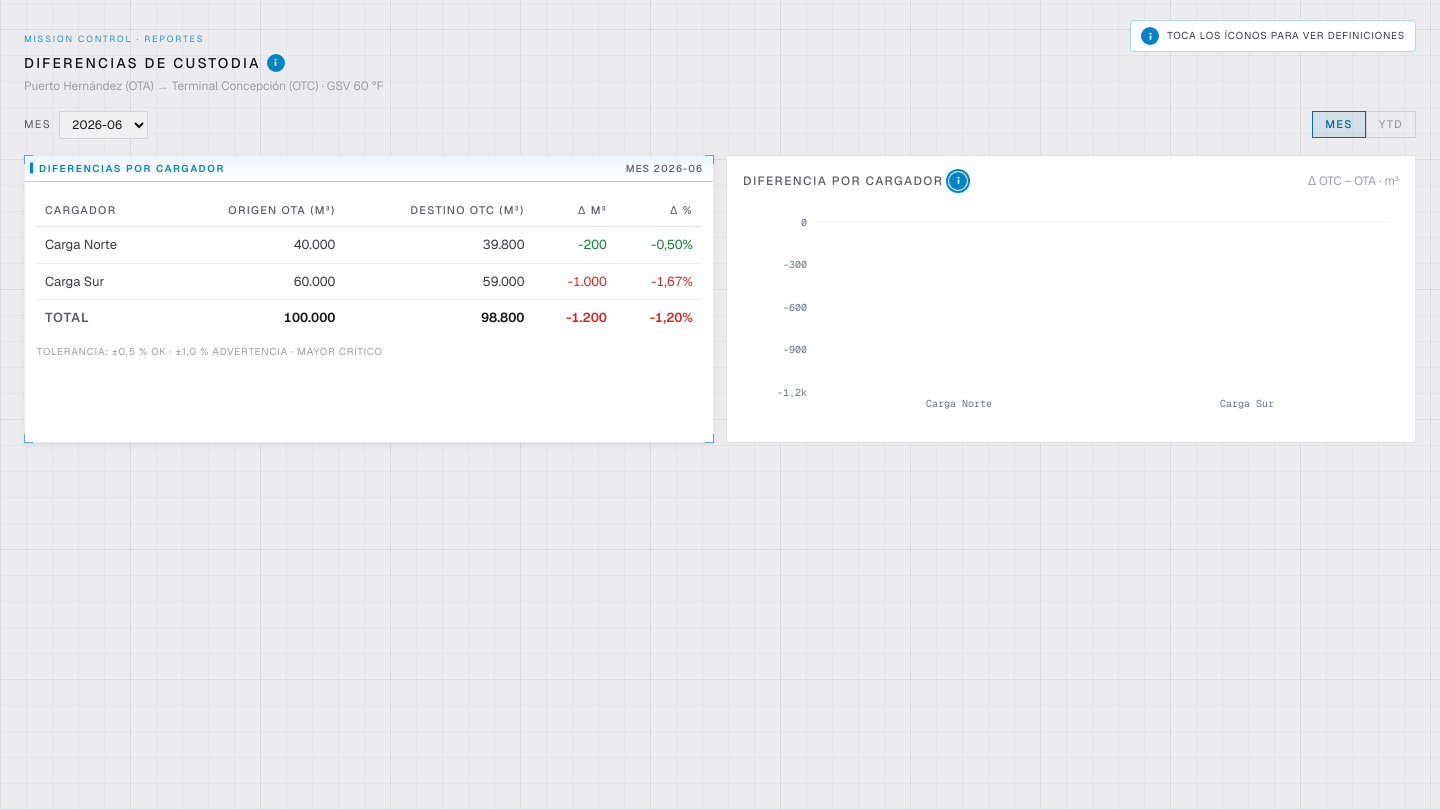
Test case: CustodyDifferencesReportPage — MV-18 › switches the view when another month is selected
Select "2026-05" in the dropdown labelled "Mes" at coordinates (104, 124), box [59,110,148,138]
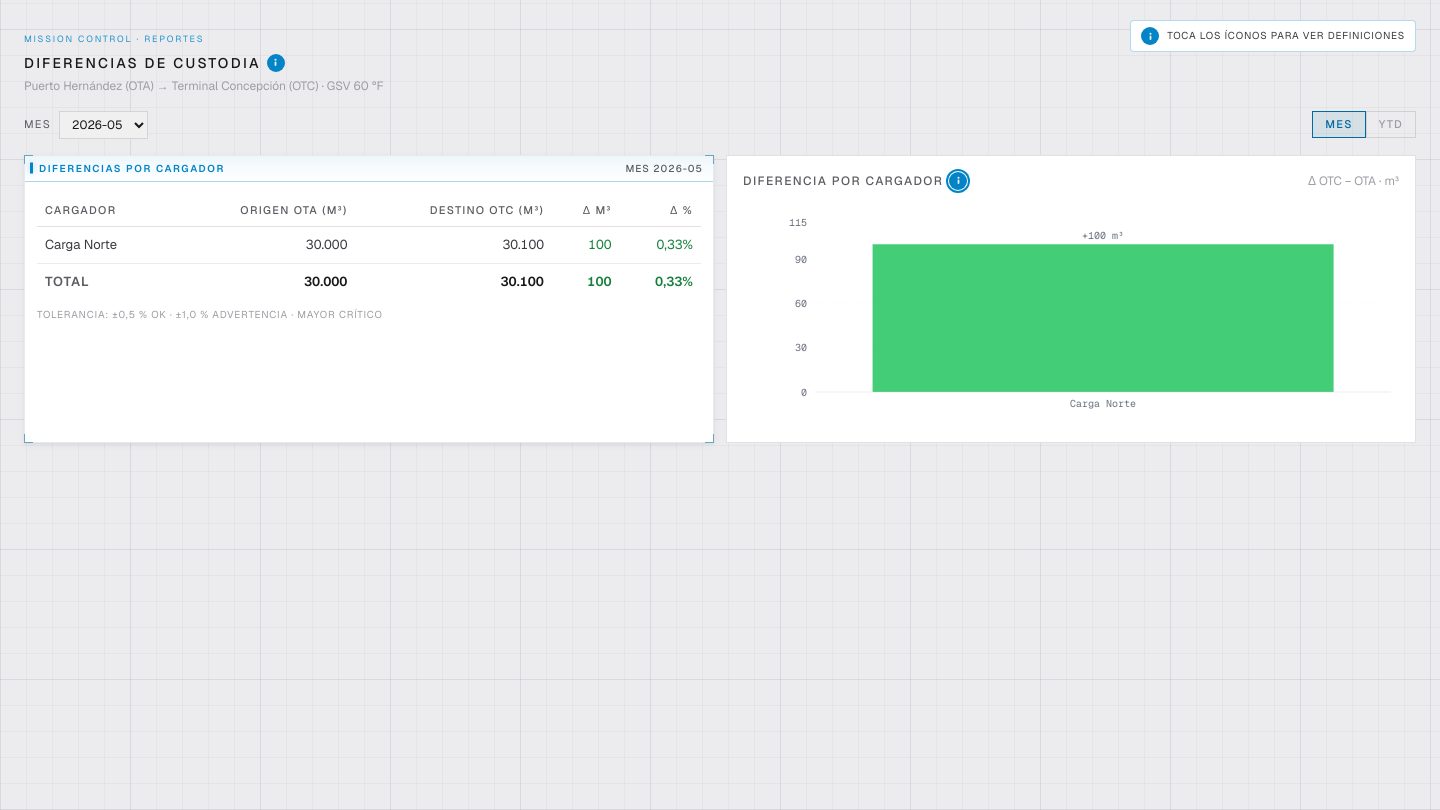
Check: the text "Carga Norte" is shown, box [37,226,170,263]
Check: the text "Carga Sur" is gone
